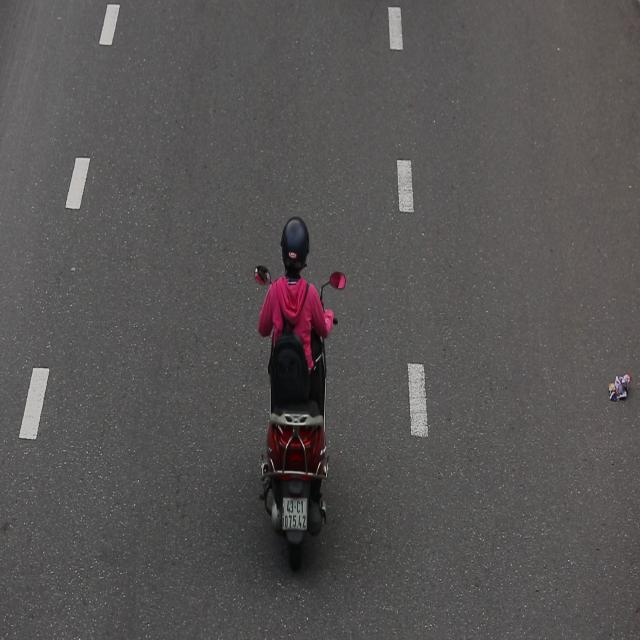motorbike: (238, 202, 349, 586)
